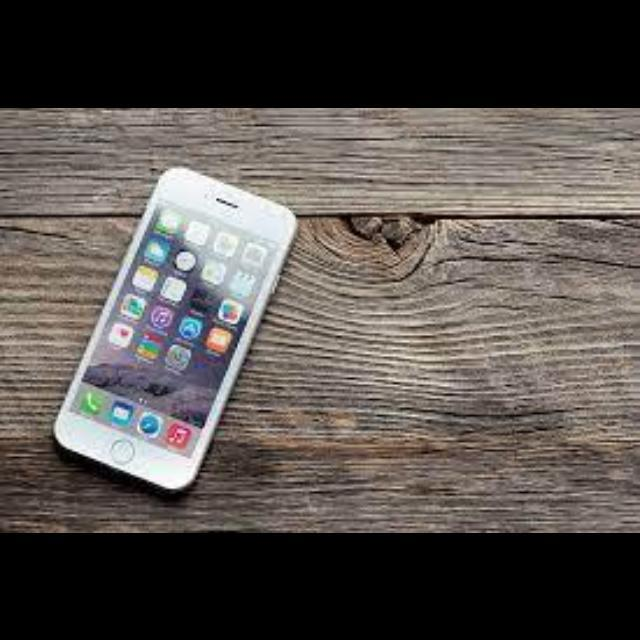Phone: (54, 164, 300, 488)
